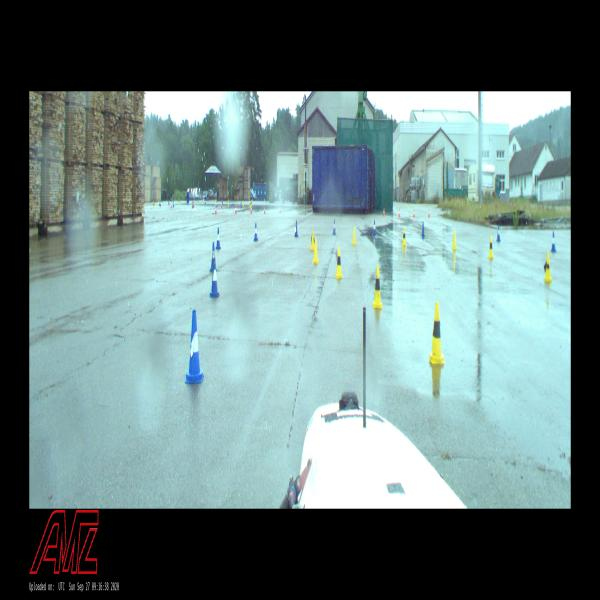blue_cone: (185, 310, 204, 383), (209, 261, 220, 297), (210, 242, 217, 271), (550, 231, 556, 252), (216, 228, 221, 249), (496, 224, 501, 241), (294, 220, 298, 237), (254, 223, 258, 240), (332, 219, 336, 235), (421, 222, 425, 236), (373, 220, 376, 235)
orange_cone: (383, 208, 385, 217), (215, 205, 217, 214), (264, 206, 266, 214), (398, 210, 400, 218), (413, 209, 415, 217), (428, 210, 430, 218), (170, 202, 172, 209), (220, 202, 222, 208), (235, 205, 236, 214), (251, 206, 252, 214)
yellow_cone: (429, 303, 446, 363), (372, 266, 382, 308), (335, 246, 343, 278), (544, 251, 552, 282), (312, 237, 319, 263), (488, 234, 494, 258), (352, 226, 357, 245), (452, 231, 457, 250), (310, 229, 314, 250), (402, 228, 406, 245)
